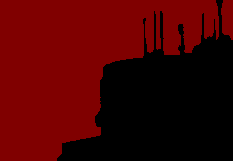Sky: (1, 1, 232, 160)
